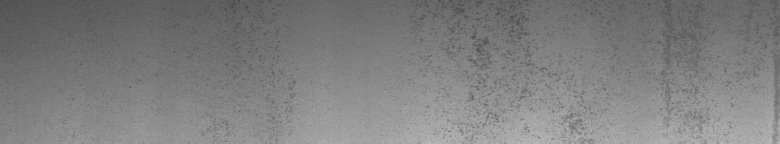ib: (444, 4, 584, 136)
